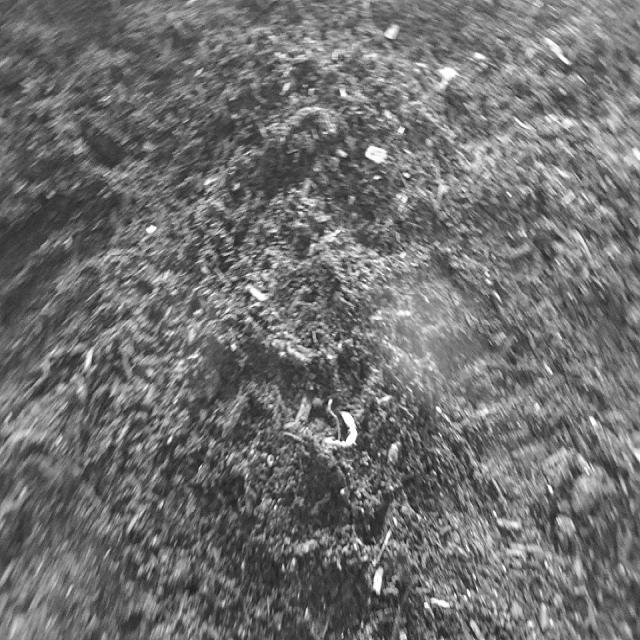Unhealthy: (317, 365, 372, 469)
